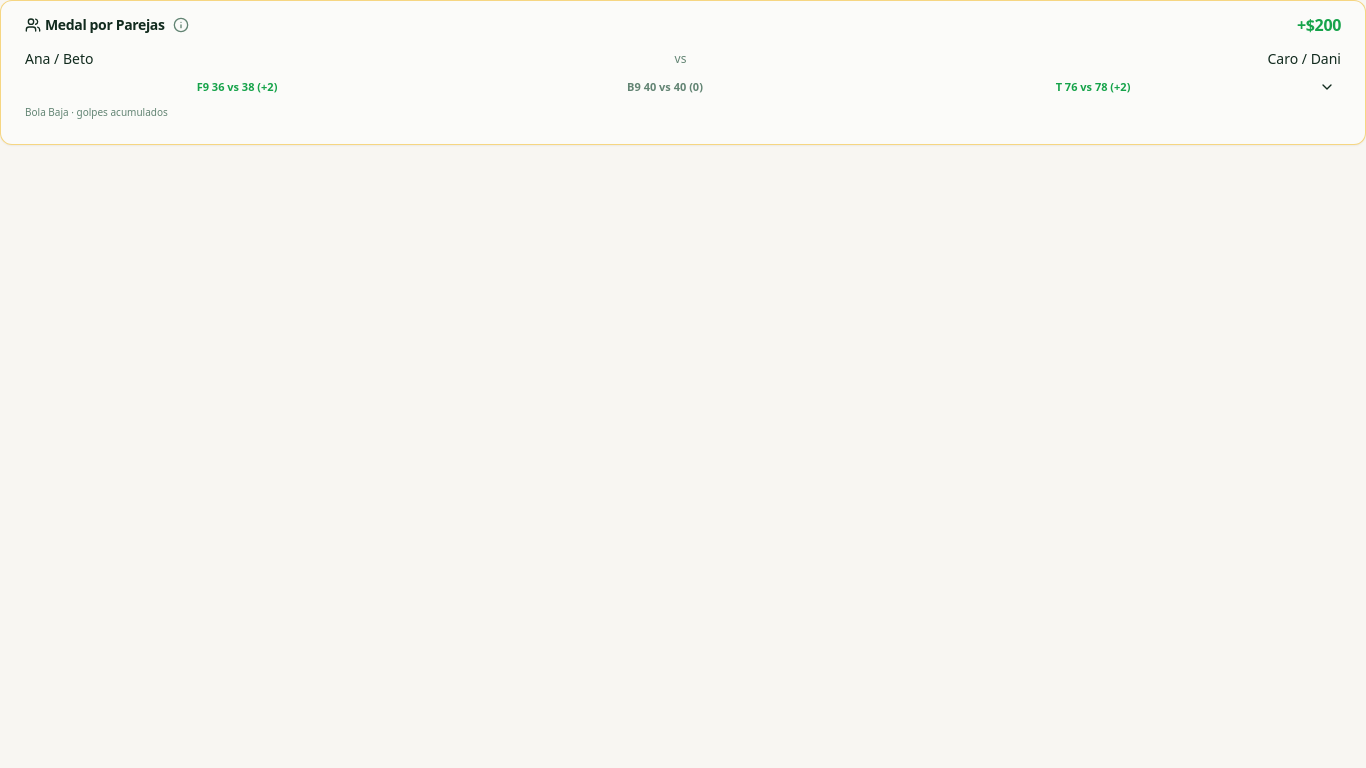
Test: CarritosResultsCard — Medal por Parejas › marks the half stroke in the hole popover
Click the button named "Ver detalle" at (1327, 87), box left=1313, top=73, right=1341, bottom=101
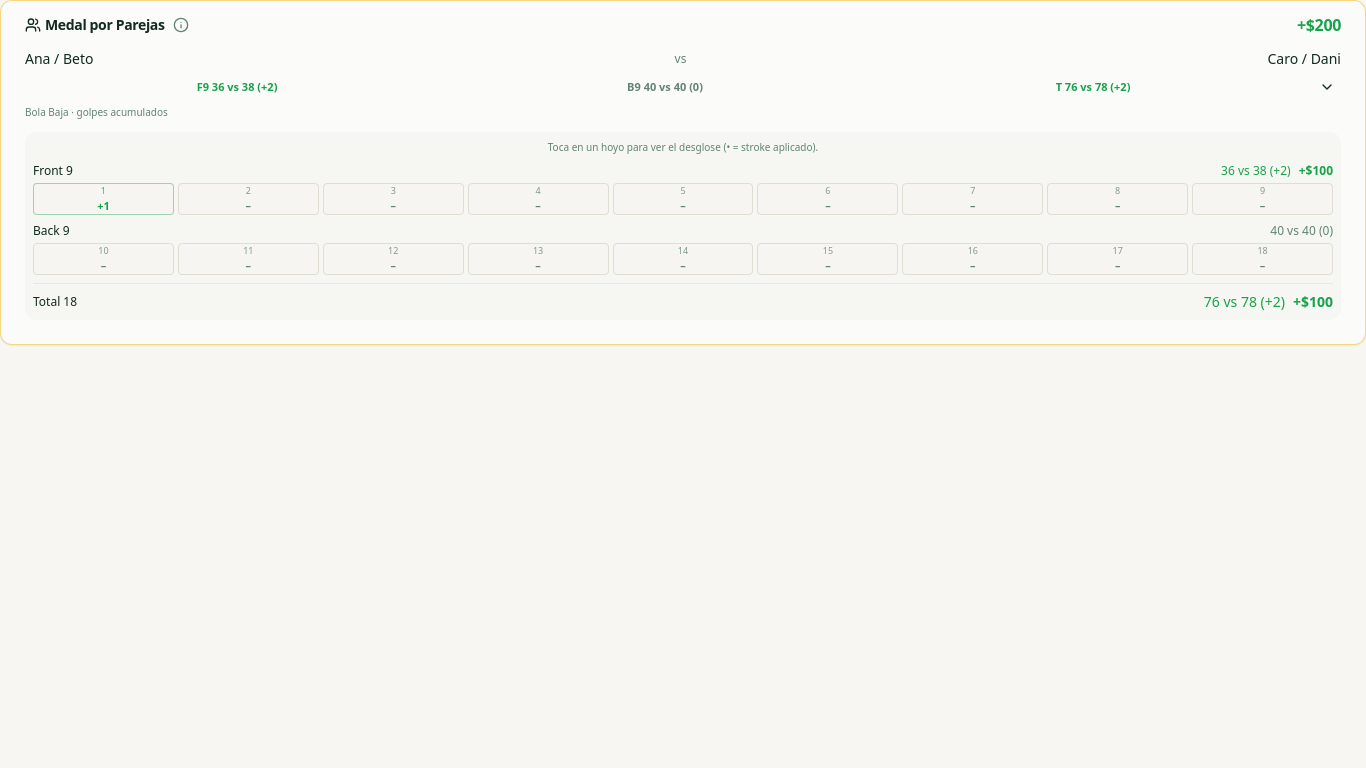
Click the text "+1" at (103, 206), box left=97, top=198, right=110, bottom=214
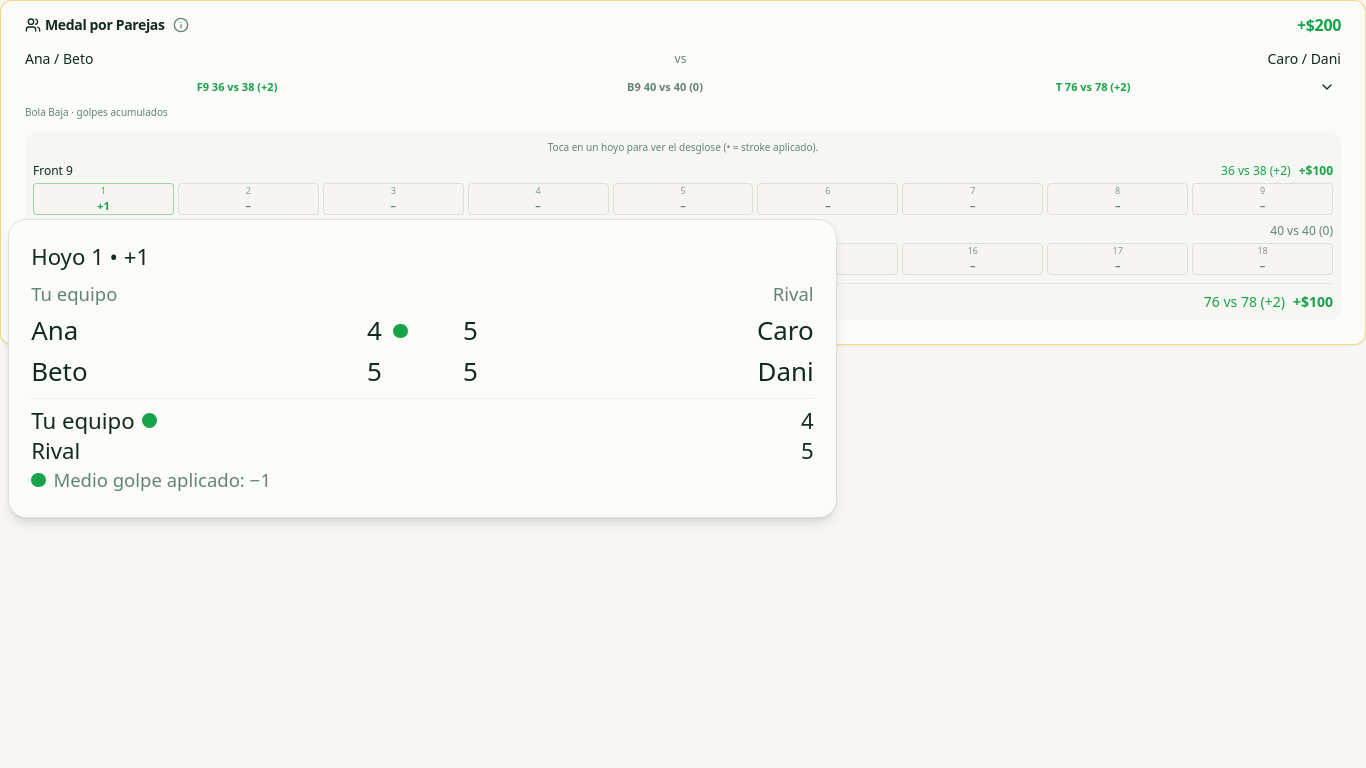
Now the text "Medio golpe aplicado: −1" is shown, box left=31, top=467, right=271, bottom=492
